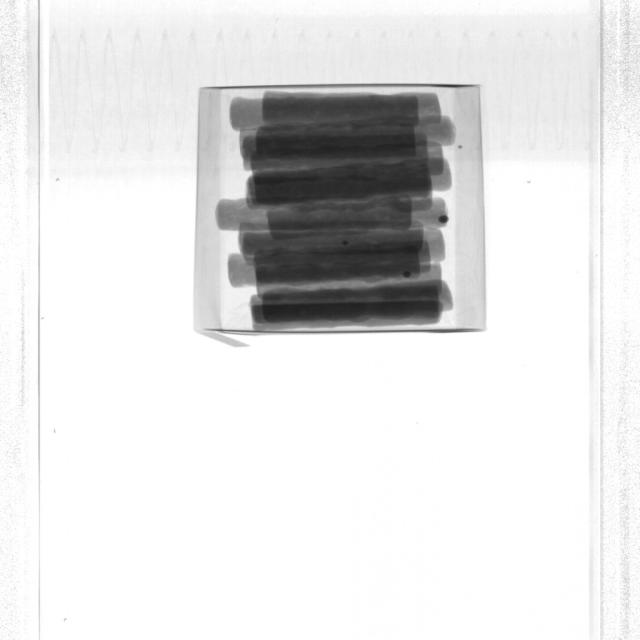ym: (438, 215, 449, 224), (403, 271, 412, 279), (343, 241, 349, 246), (459, 146, 462, 149)
